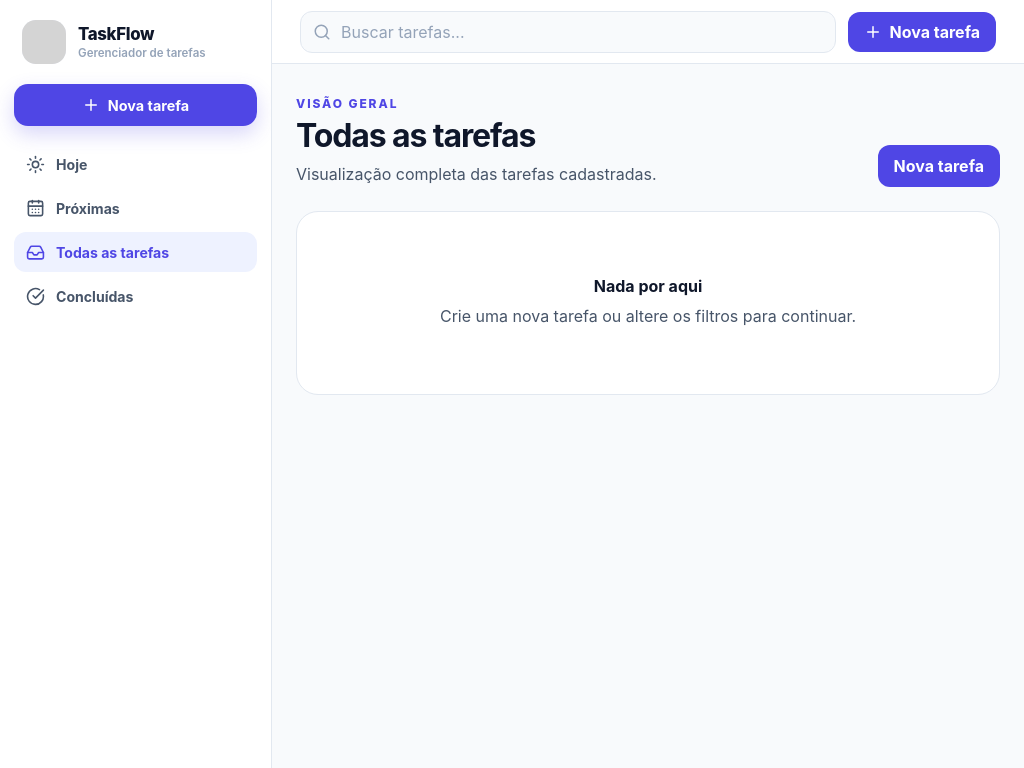
Test: Layout integrado › abre um único modal por cada um dos três botões e devolve o foco ao gatilho
The width and height of the screenshot is (1024, 768).
expect the heading "Nada por aqui" is shown: met, box left=594, top=276, right=702, bottom=296
Click the button "Nova tarefa" below "Gerenciador de tarefas" at (136, 105), box left=14, top=84, right=257, bottom=126
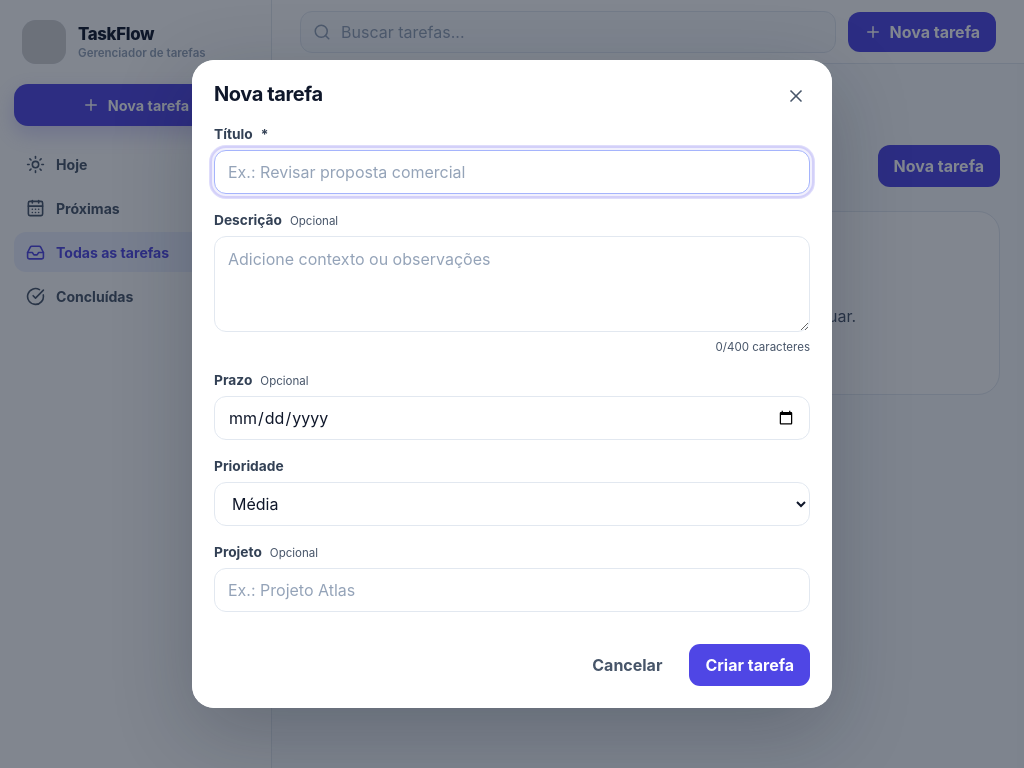
expect the number of dialogs "Nova tarefa" is 1: met, box left=192, top=60, right=832, bottom=708
Press Escape
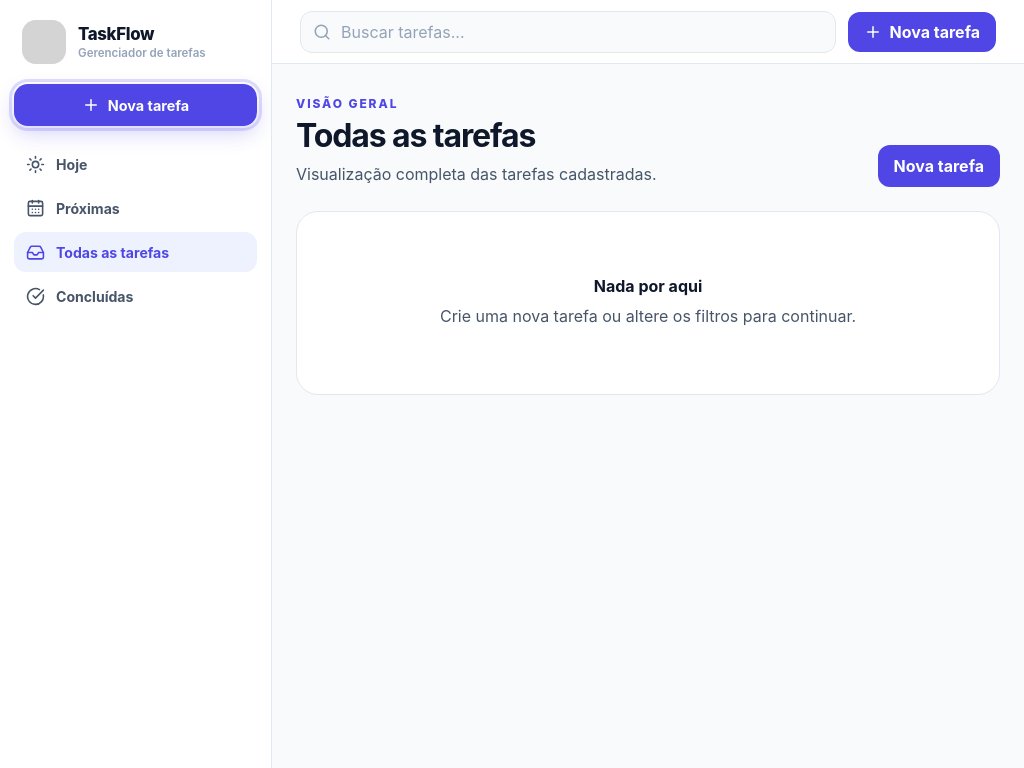
expect the dialog is gone: met
Click the 1st button "Nova tarefa" at (922, 32), box left=848, top=12, right=996, bottom=52
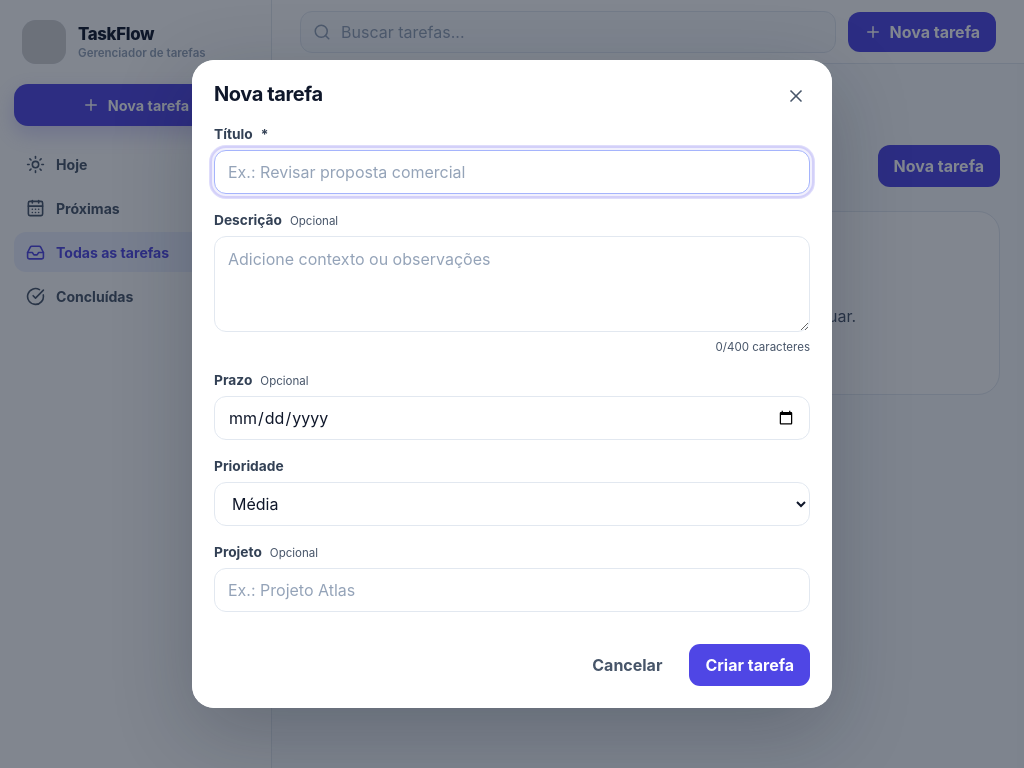
expect the number of dialogs "Nova tarefa" is 1: met, box left=192, top=60, right=832, bottom=708
Press Escape
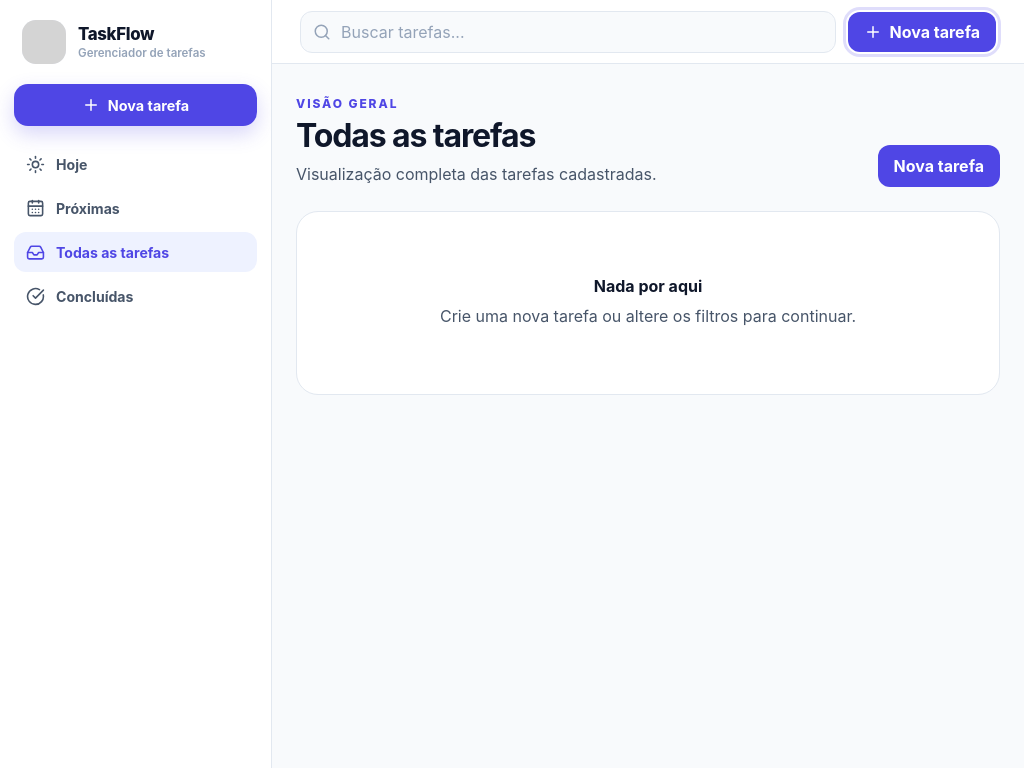
expect the dialog is gone: met
Click the 3rd button "Nova tarefa" at (939, 166), box left=878, top=145, right=1000, bottom=187
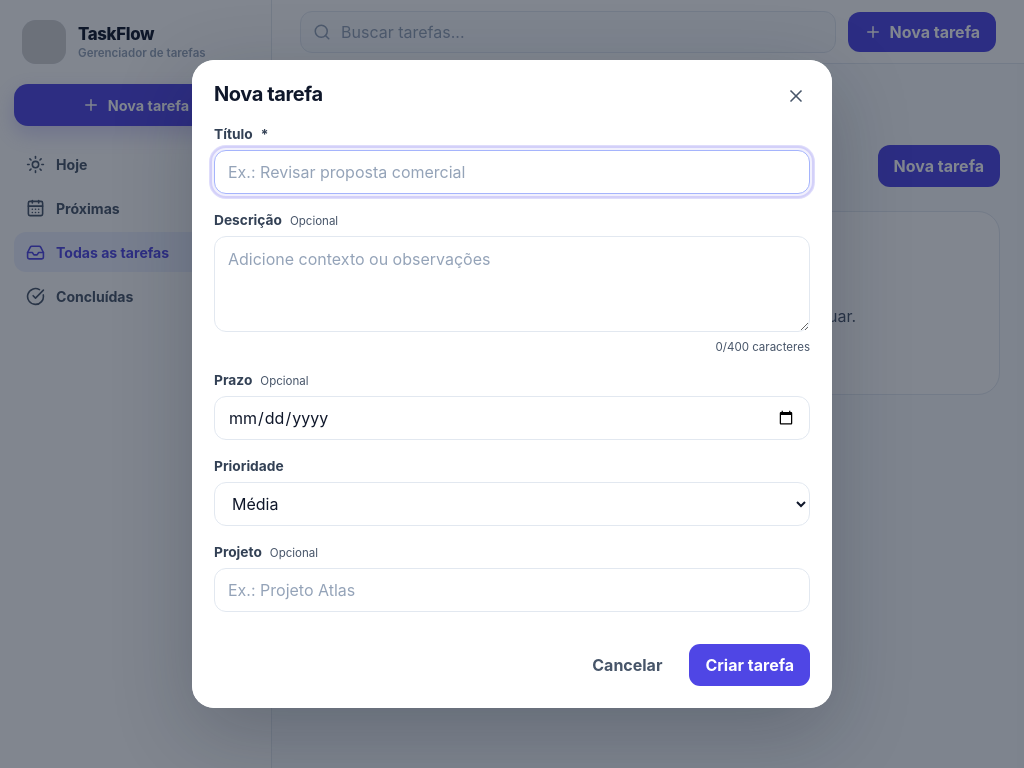
expect the number of dialogs "Nova tarefa" is 1: met, box left=192, top=60, right=832, bottom=708
Press Escape
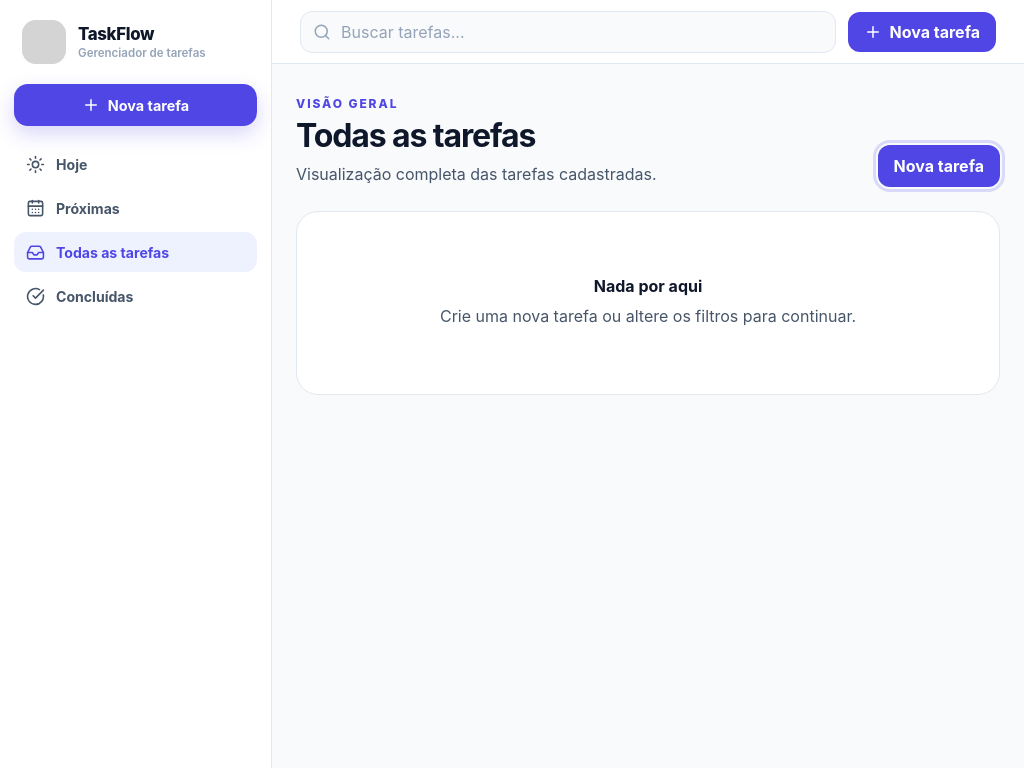
expect the dialog is gone: met
